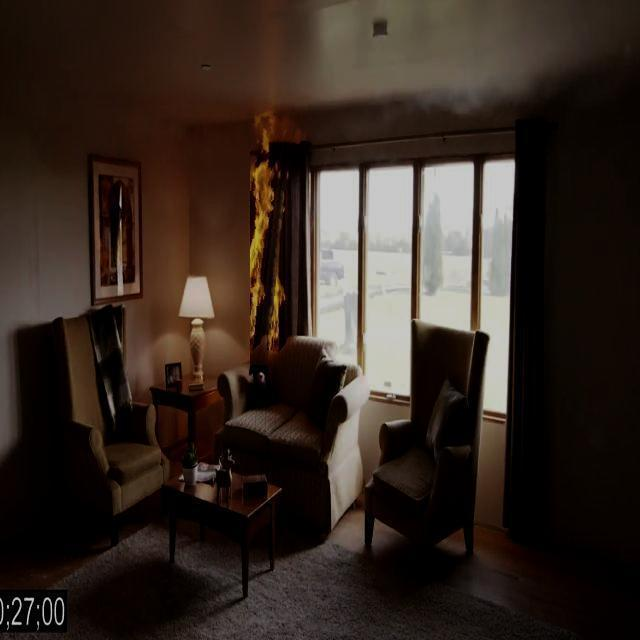smoke: (250, 98, 294, 366)
